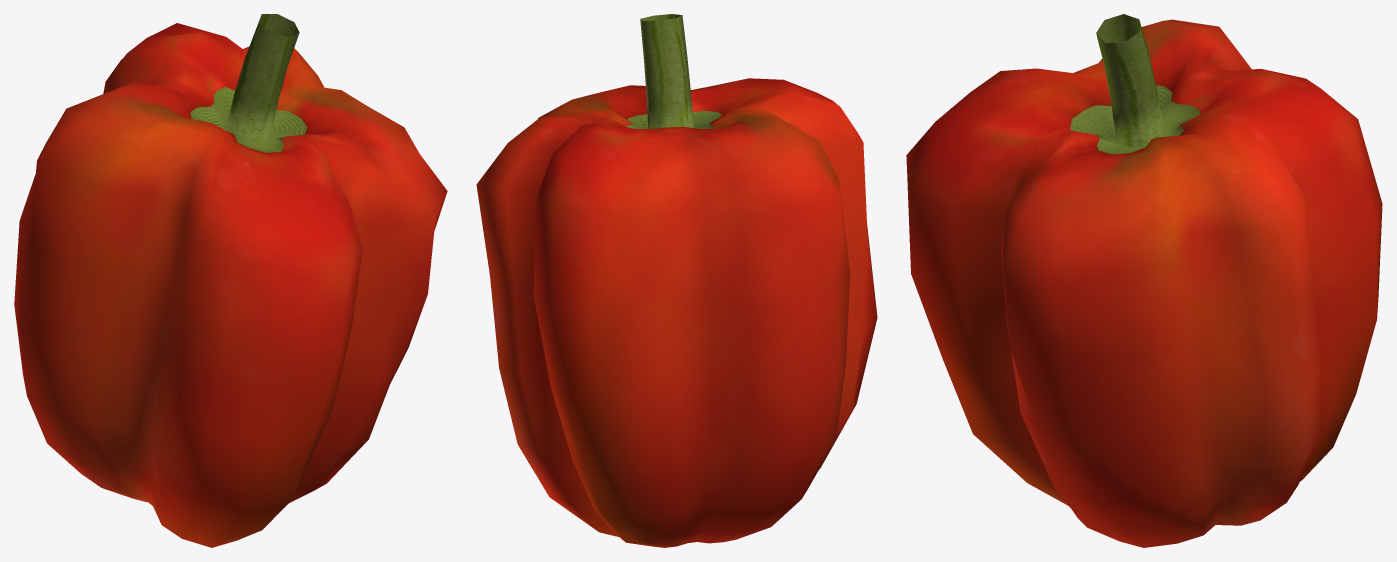
Rendered from VG07_5_fruit5.dae.
The picture shows the model from 3 angles, left to right: view 1: azimuth 30°, elevation 25°; view 2: azimuth 150°, elevation 25°; view 3: azimuth 270°, elevation 25°; orthographic projection. The views are drawn at different scales.
Parts seen in each view (by area): view 1: VG07_024; view 2: VG07_024; view 3: VG07_024.
Part boxes in pixels (<box>): VG07_024: <box>14,14,447,547</box>; VG07_024: <box>476,14,877,547</box>; VG07_024: <box>906,14,1382,547</box>.
Size of the model in its own units: 0.076 by 0.0836 by 0.1018.
Materials: 2 (2 with a texture image).
